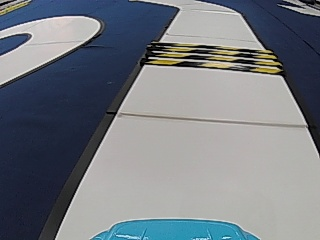bump: (160, 42, 261, 69)
